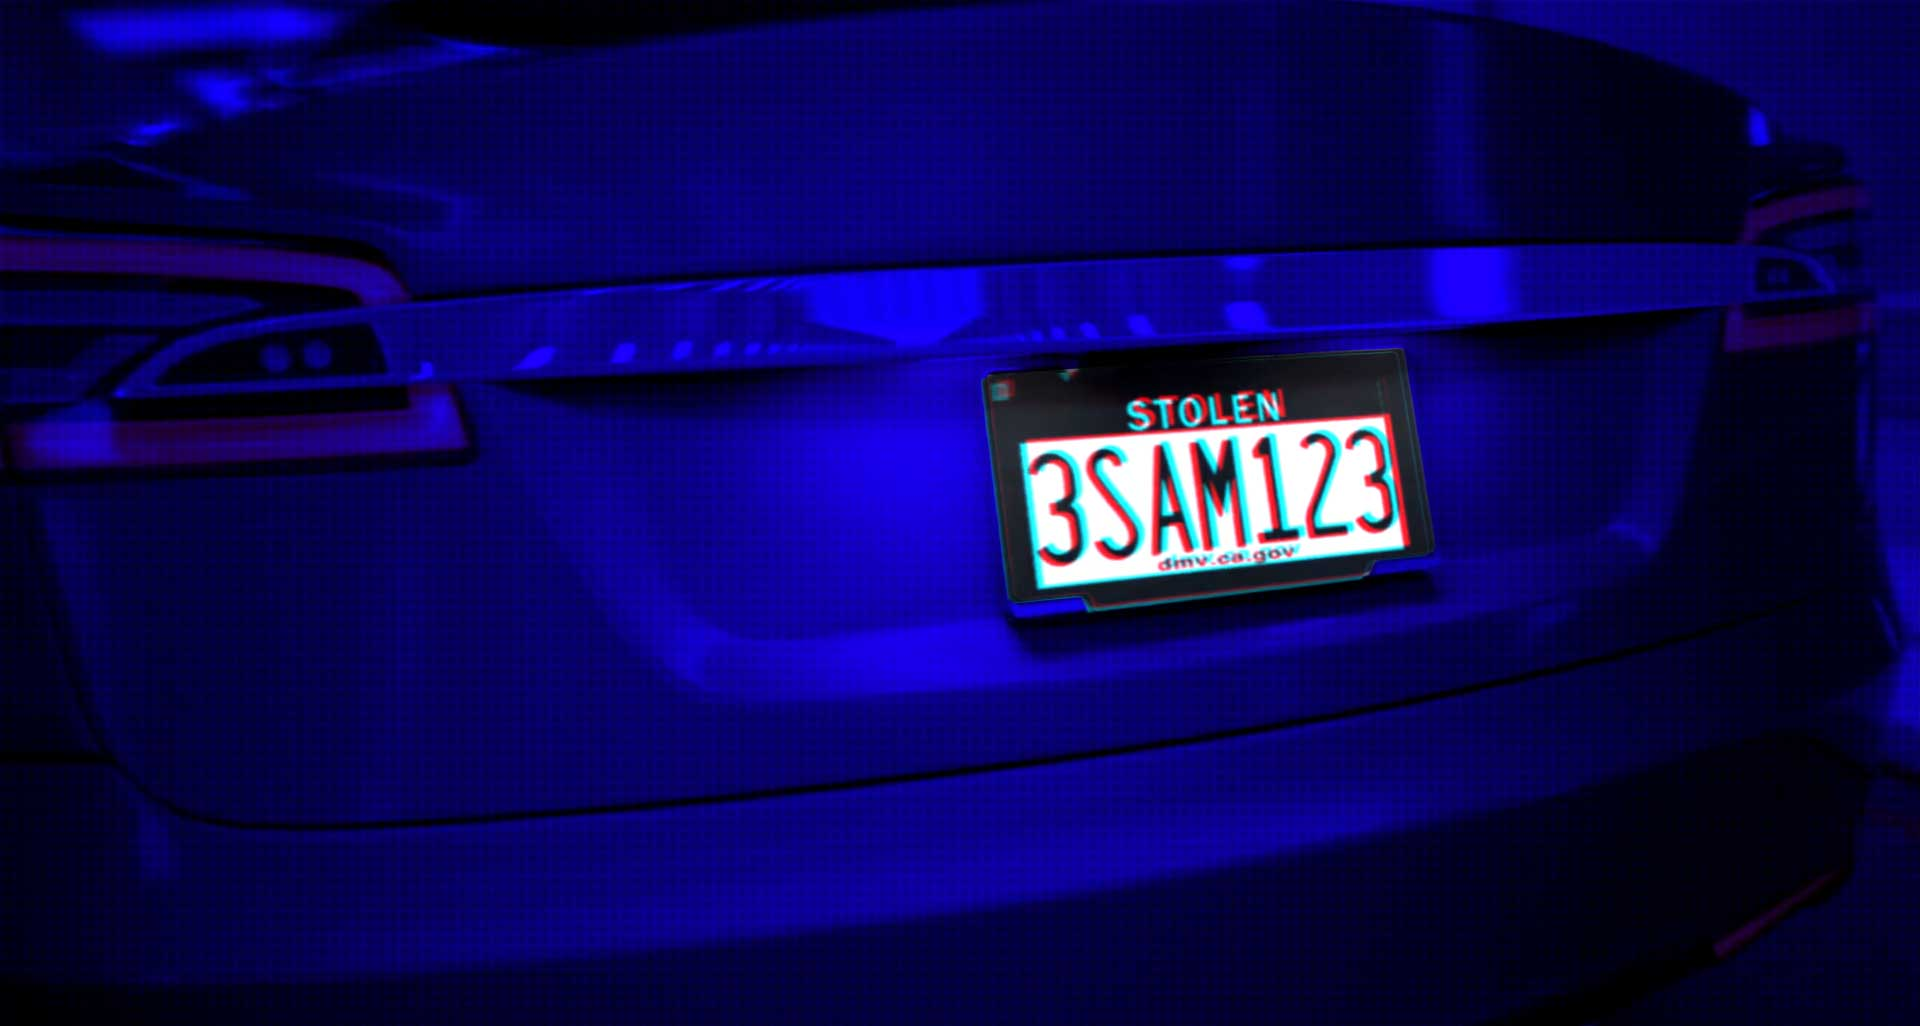license plate: (993, 383, 1415, 617)
